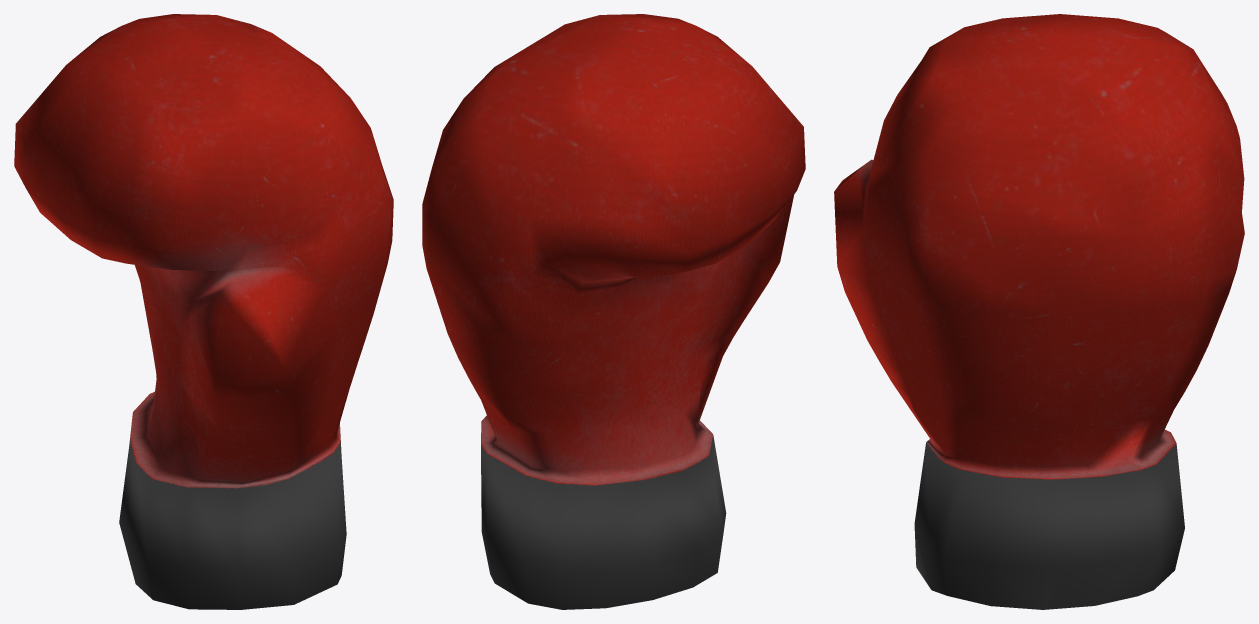
The model's file is rightBoxingGlove.fbx.
3 renders of one model, left to right at view 1: azimuth 30°, elevation 25°; view 2: azimuth 150°, elevation 25°; view 3: azimuth 270°, elevation 25°, orthographic.
Visible parts, largest first — view 1: polySurface2; view 2: polySurface2; view 3: polySurface2.
Part boxes in pixels (x1,y1,x2,y2): polySurface2: (14, 14, 393, 609); polySurface2: (422, 14, 805, 609); polySurface2: (834, 14, 1244, 609).
Bounding box in the file's own units: 5.96 × 9.92 × 6.95.
